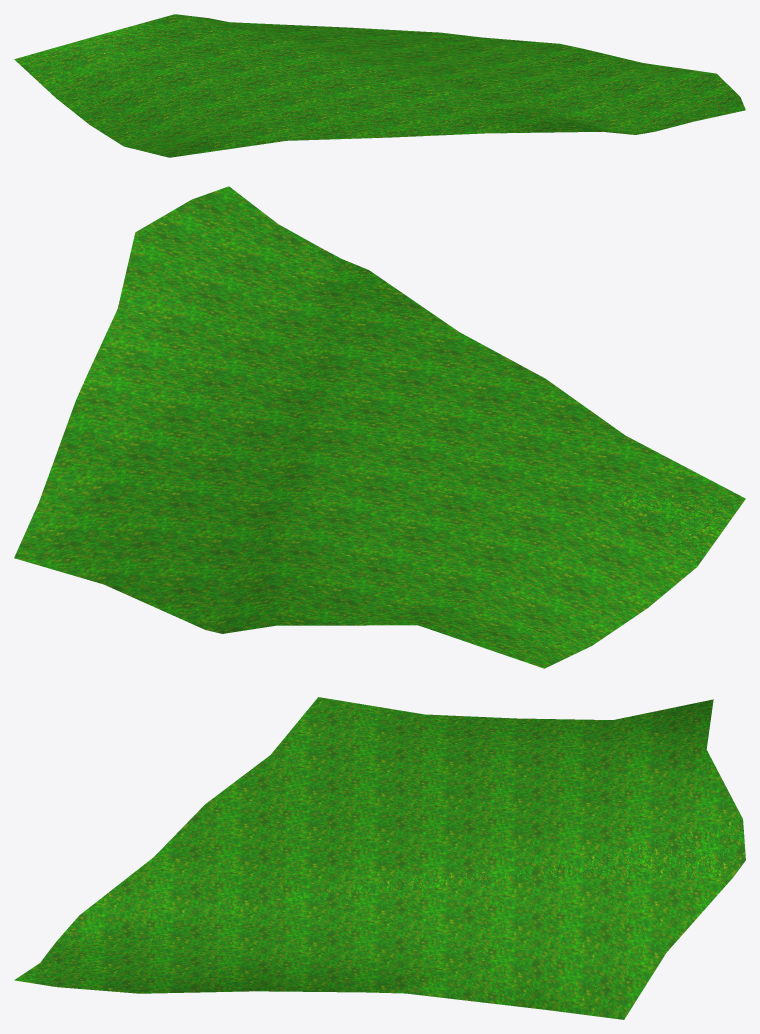
File: HTOWN01_PS23.fbx
The picture shows the model from 3 angles, top to bottom: view 1: azimuth 30°, elevation 25°; view 2: azimuth 150°, elevation 25°; view 3: azimuth 270°, elevation 25°; orthographic projection. The views are drawn at different scales.
Visible parts, largest first — view 1: HTOWN01_PS23; view 2: HTOWN01_PS23; view 3: HTOWN01_PS23.
Boxes of the visible parts, x1=… form: HTOWN01_PS23: x1=14, y1=14, x2=745, y2=157; HTOWN01_PS23: x1=14, y1=186, x2=745, y2=668; HTOWN01_PS23: x1=14, y1=697, x2=745, y2=1019.
Bounding box in the file's own units: 232535 × 30871 × 222425.
Materials: 1 (1 with a texture image).
